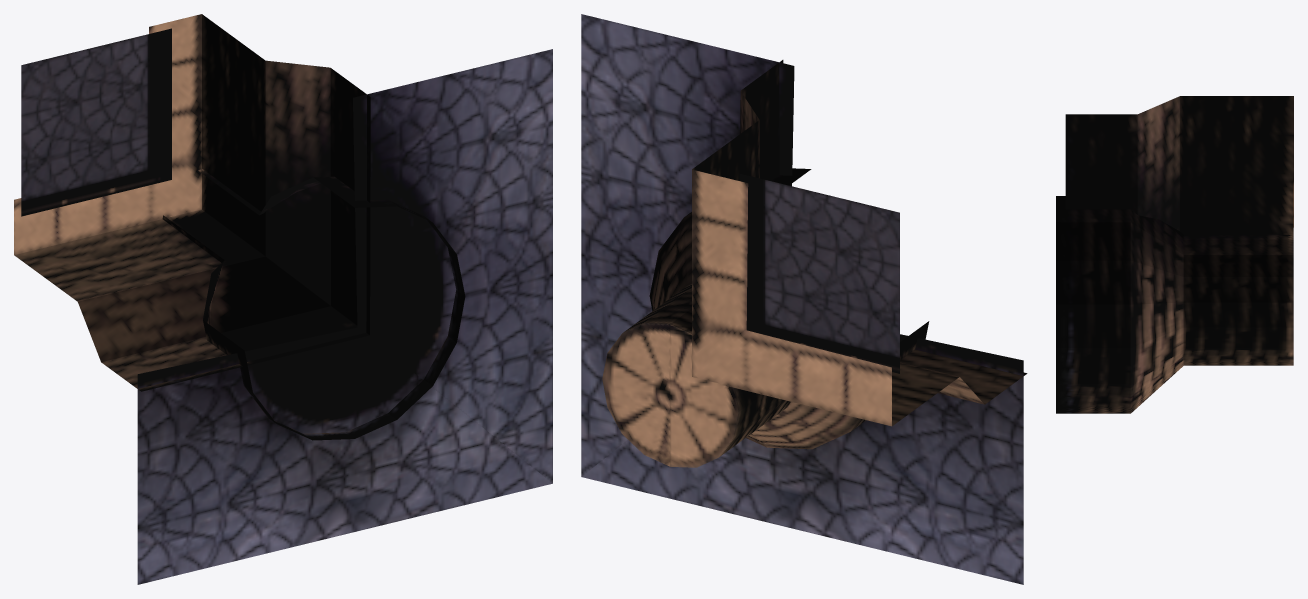
File: ex_ColumnCorner3.obj
The picture shows the model from 3 angles, left to right: view 1: azimuth 30°, elevation 25°; view 2: azimuth 150°, elevation 25°; view 3: azimuth 270°, elevation 25°; orthographic projection. The views are drawn at different scales.
Visible parts, largest first — view 1: ex_Column0.005_Cylinder.010, object 2; view 2: ex_Column0.005_Cylinder.010, object 2; view 3: ex_Column0.005_Cylinder.010.
Part boxes in pixels (<box>): ex_Column0.005_Cylinder.010: <box>14,14,552,584</box>; object 2: <box>21,28,171,216</box>; ex_Column0.005_Cylinder.010: <box>581,14,1027,584</box>; object 2: <box>739,173,899,373</box>; ex_Column0.005_Cylinder.010: <box>1056,96,1293,413</box>.
Size of the model in its own units: 256 by 256 by 142.
